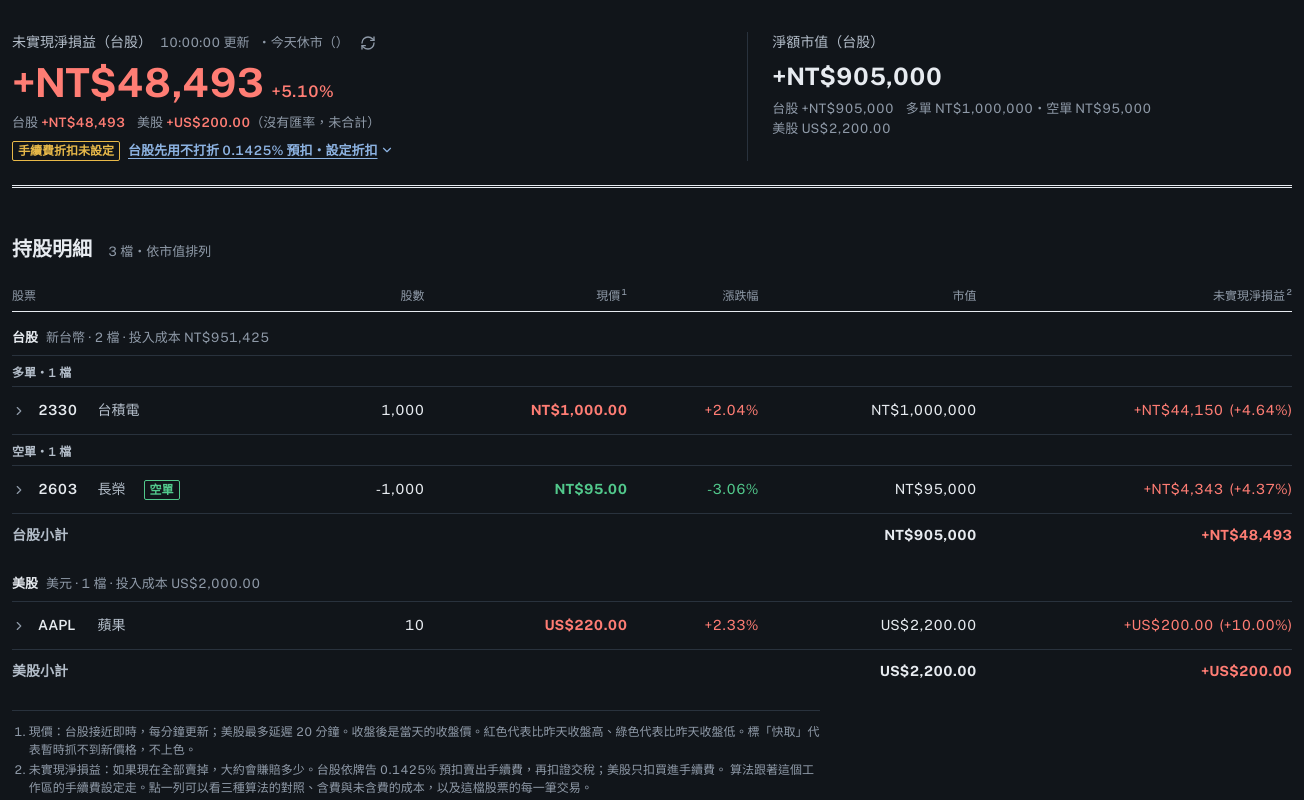
Test: DashboardPage — 融券空單（Task 141 Stage B） › T15 空單明細看得到建倉價與賣出實收，不印「—」
The width and height of the screenshot is (1304, 800).
Click the row with test id "holding-row-2603-SHORT" at coordinates (652, 490), box [12,466,1292,514]
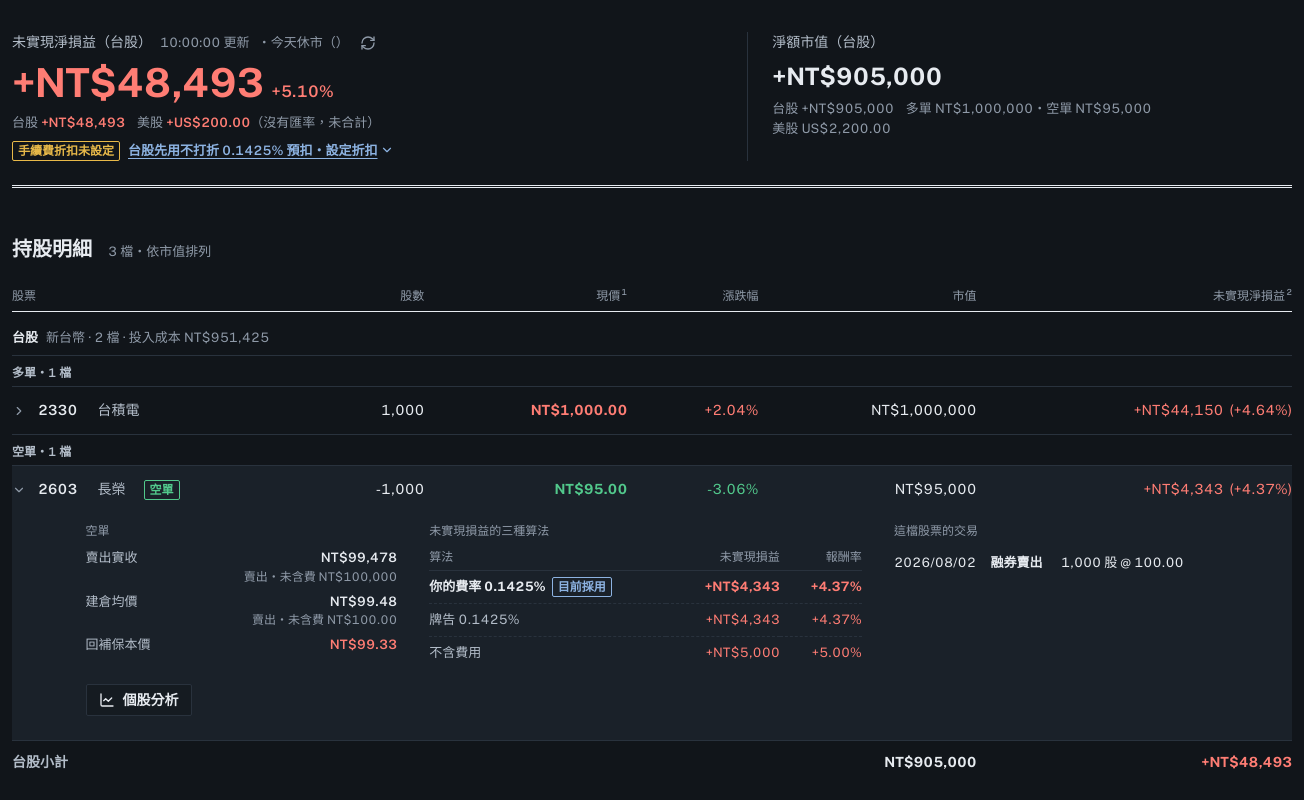
Now the text "空單" shows "99,478", box [321,550,397,565]
Now the text "空單" shows "100,000", box [319,570,397,584]
Now the text "空單" shows "99.48", box [330,594,397,608]
